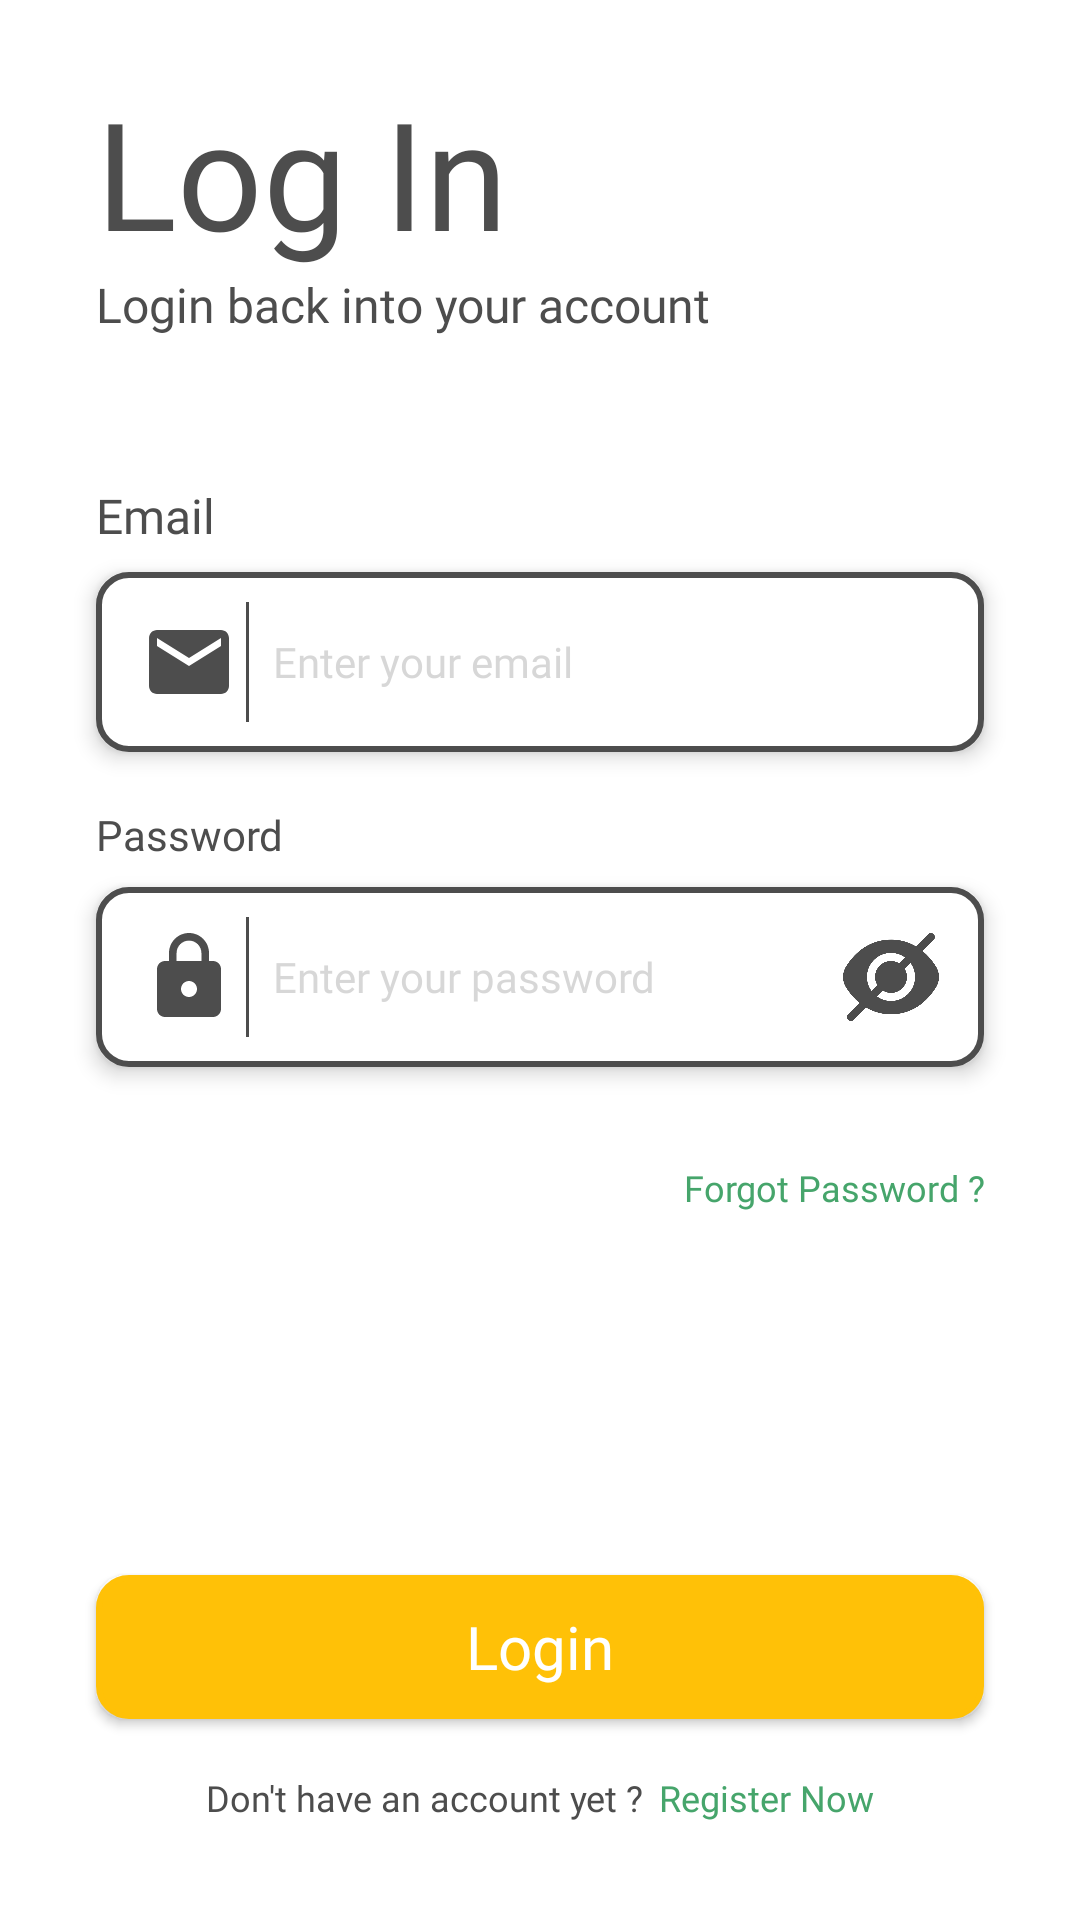

Icon bounding boxes for this 1080×1920 phone screenshot, format detection(x1, y1, x2, y2):
invisible: detection(843, 933, 939, 1021)
lock: detection(157, 933, 221, 1017)
